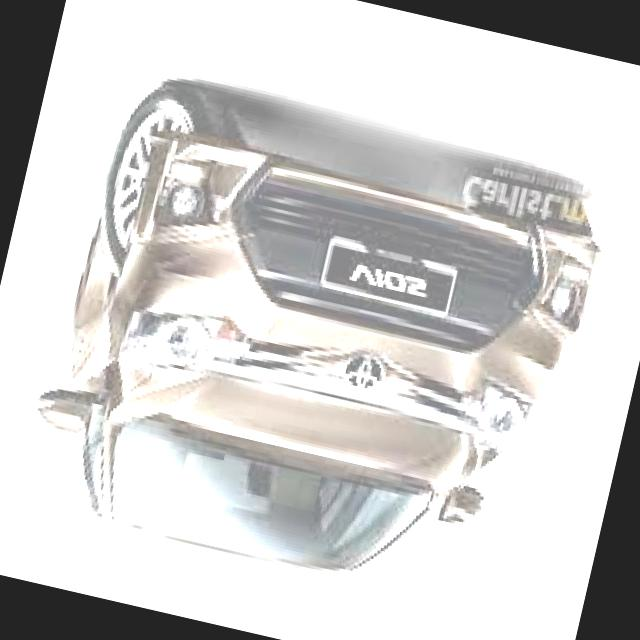ToyotaVios: (12, 64, 618, 623)
